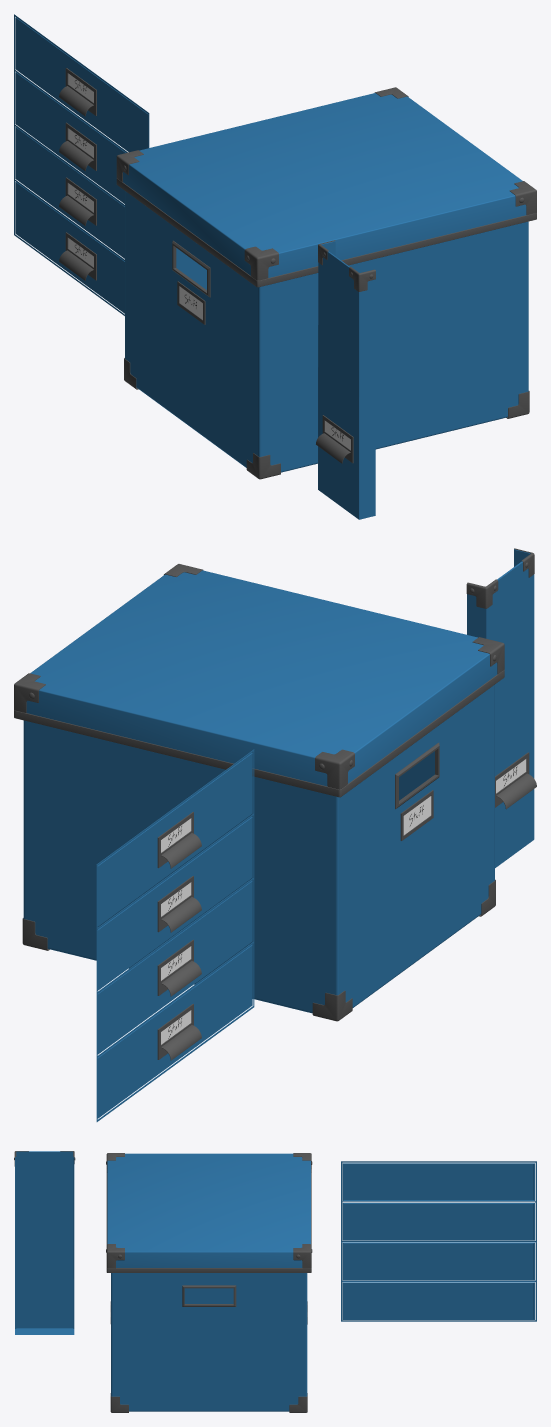
Rendered from paperBoxes.FBX.
The picture shows the model from 3 angles, top to bottom: view 1: azimuth 30°, elevation 25°; view 2: azimuth 150°, elevation 25°; view 3: azimuth 270°, elevation 25°; orthographic projection. The views are drawn at different scales.
Visible parts, largest first — view 1: Box 02, Paper Box014, Magazine Box03; view 2: Box 02, Paper Box014, Magazine Box03; view 3: Box 02, Paper Box014, Magazine Box03.
Part boxes in pixels (<box>): Box 02: <box>116,87,536,479</box>; Paper Box014: <box>14,14,149,315</box>; Magazine Box03: <box>316,240,375,519</box>; Box 02: <box>14,564,504,1021</box>; Paper Box014: <box>96,749,254,1121</box>; Magazine Box03: <box>466,548,536,867</box>; Box 02: <box>106,1153,312,1412</box>; Paper Box014: <box>341,1161,536,1321</box>; Magazine Box03: <box>14,1151,75,1334</box>.
Bounding box in the file's own units: 0.3975 × 0.3316 × 0.8801.
Materials: 3 (1 with a texture image).
